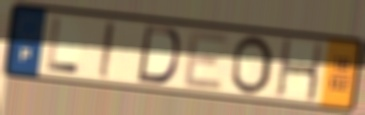D: (134, 24, 181, 87)
E: (181, 30, 231, 93)
H: (274, 37, 325, 104)
I: (97, 19, 117, 81)
L: (45, 16, 82, 75)
O: (228, 34, 274, 97)
